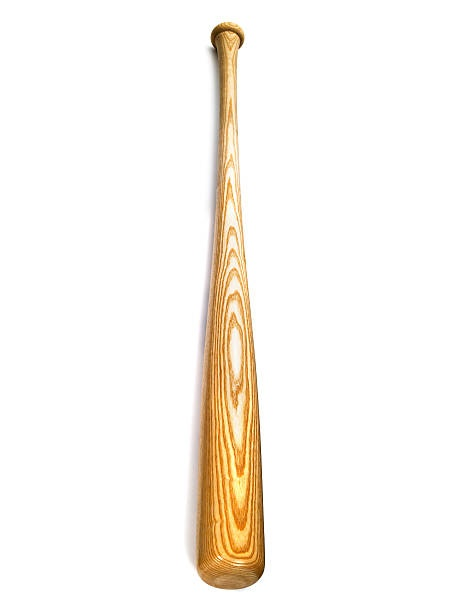bita: (192, 26, 268, 590)
